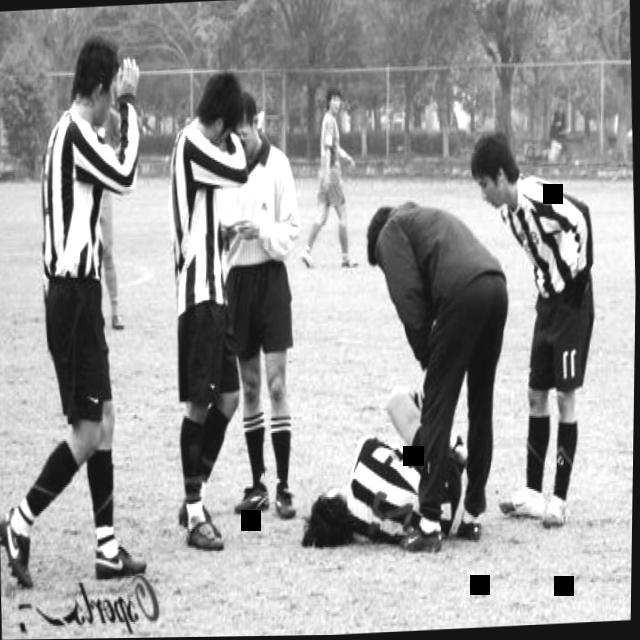Fall-Detected: (295, 376, 486, 564)
